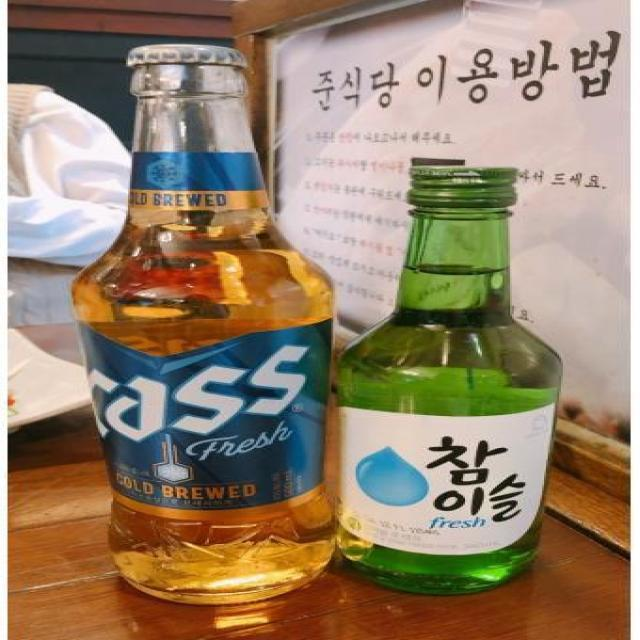beer-bottle: (73, 35, 339, 610)
soju-bottle: (348, 158, 584, 594)
